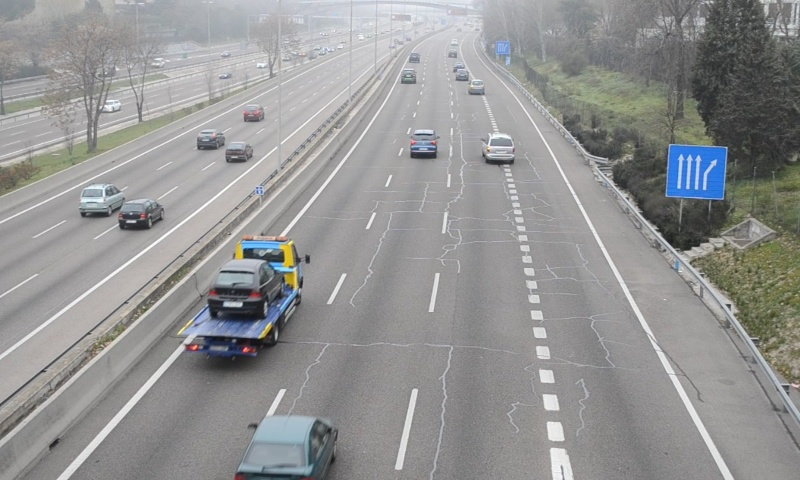car: (238, 415, 338, 478), (483, 132, 516, 164), (409, 128, 438, 156), (467, 78, 485, 94), (400, 68, 416, 84)
small-truck: (174, 234, 302, 356)
